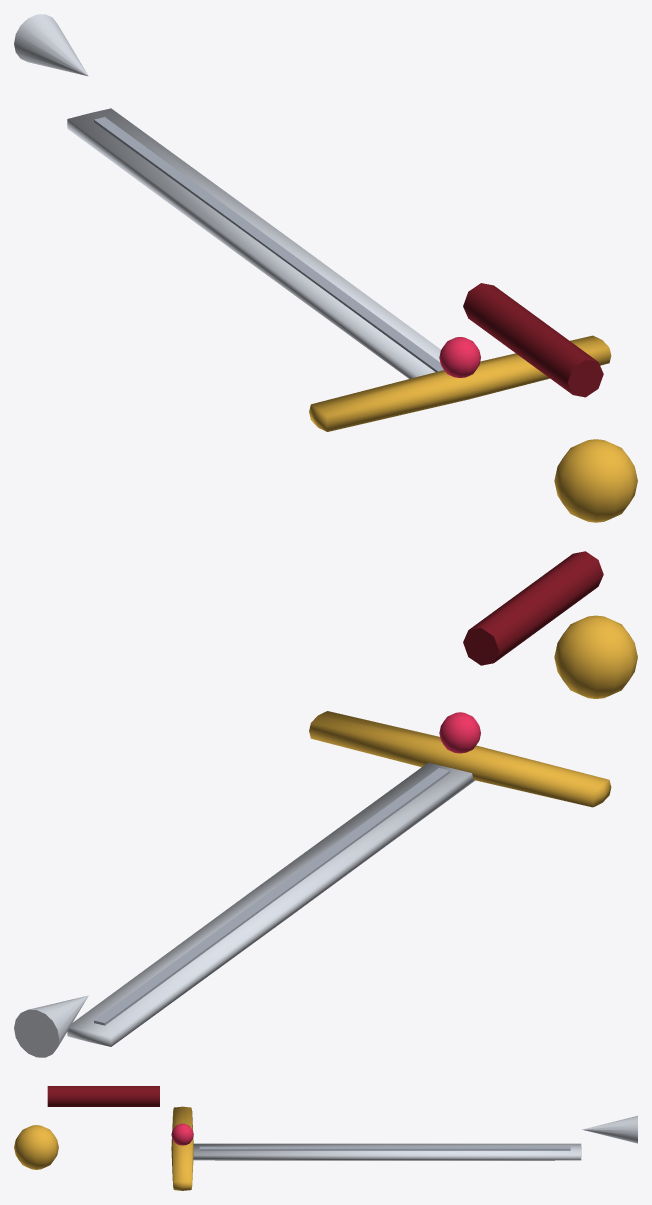
The model's file is sword.glb.
The picture shows the model from 3 angles, top to bottom: view 1: azimuth 30°, elevation 25°; view 2: azimuth 150°, elevation 25°; view 3: azimuth 270°, elevation 25°; orthographic projection. The views are drawn at different scales.
Visible parts, largest first — view 1: root; view 2: root; view 3: root.
Part boxes in pixels (x1=…): root: x1=14, y1=14, x2=637, y2=522; root: x1=14, y1=551, x2=637, y2=1057; root: x1=14, y1=1086, x2=637, y2=1190.
Size of the model in its own units: 0.32 by 0.16 by 1.11.
